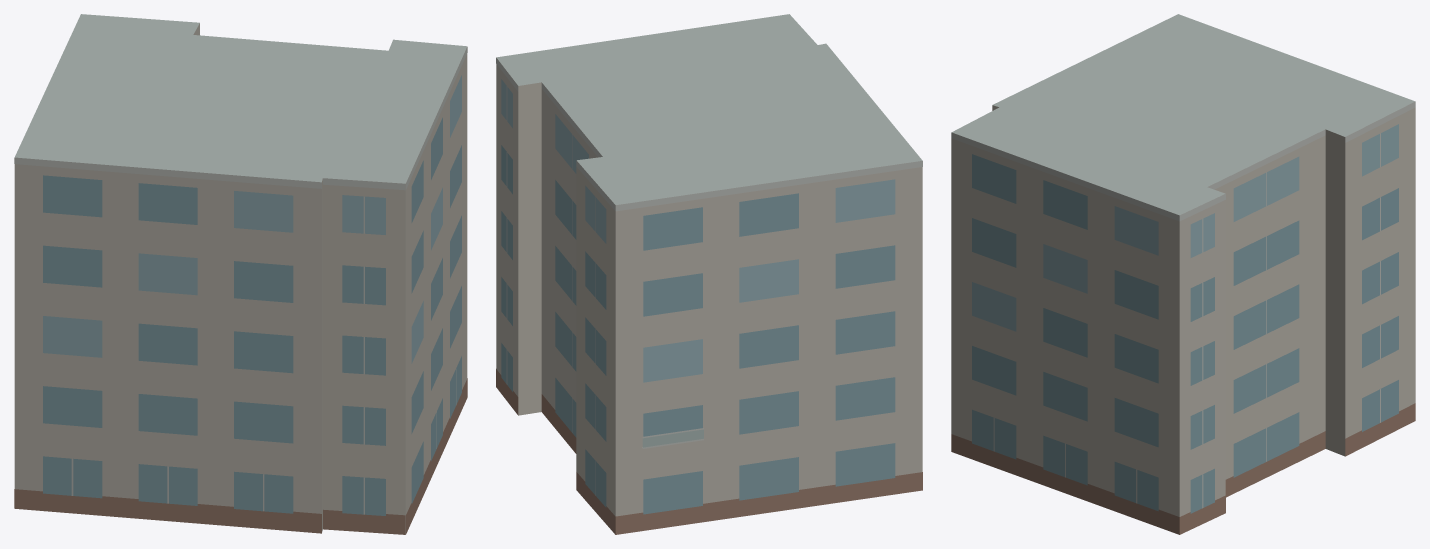
File: survey-upis-32973547.glb
3 renders of one model, left to right at view 1: azimuth 30°, elevation 25°; view 2: azimuth 150°, elevation 25°; view 3: azimuth 270°, elevation 25°, orthographic. The views are drawn at different scales.
Visible parts, largest first — view 1: survey-upis-32973547.tmp; view 2: survey-upis-32973547.tmp; view 3: survey-upis-32973547.tmp.
Part boxes in pixels (box(x1,y1,x2,y2)): survey-upis-32973547.tmp: box(14, 14, 467, 534); survey-upis-32973547.tmp: box(496, 14, 922, 534); survey-upis-32973547.tmp: box(951, 14, 1415, 534).
Size of the model in its own units: 17.59 by 13 by 17.12.
